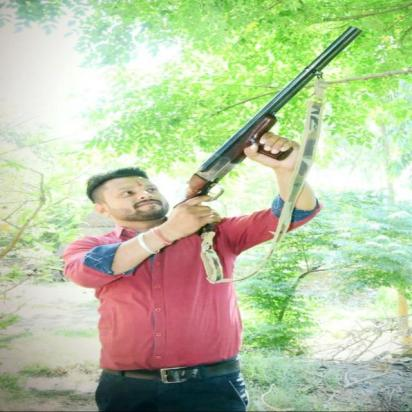Gun: (170, 24, 366, 238)
